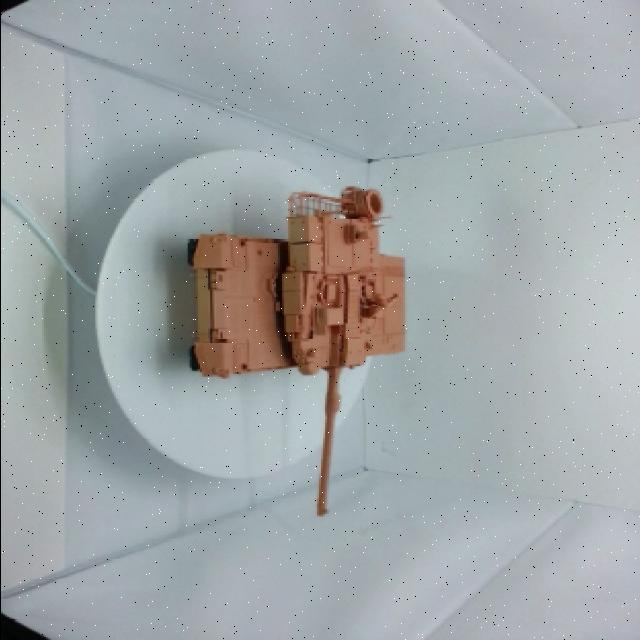korea tank: (152, 151, 448, 529)
